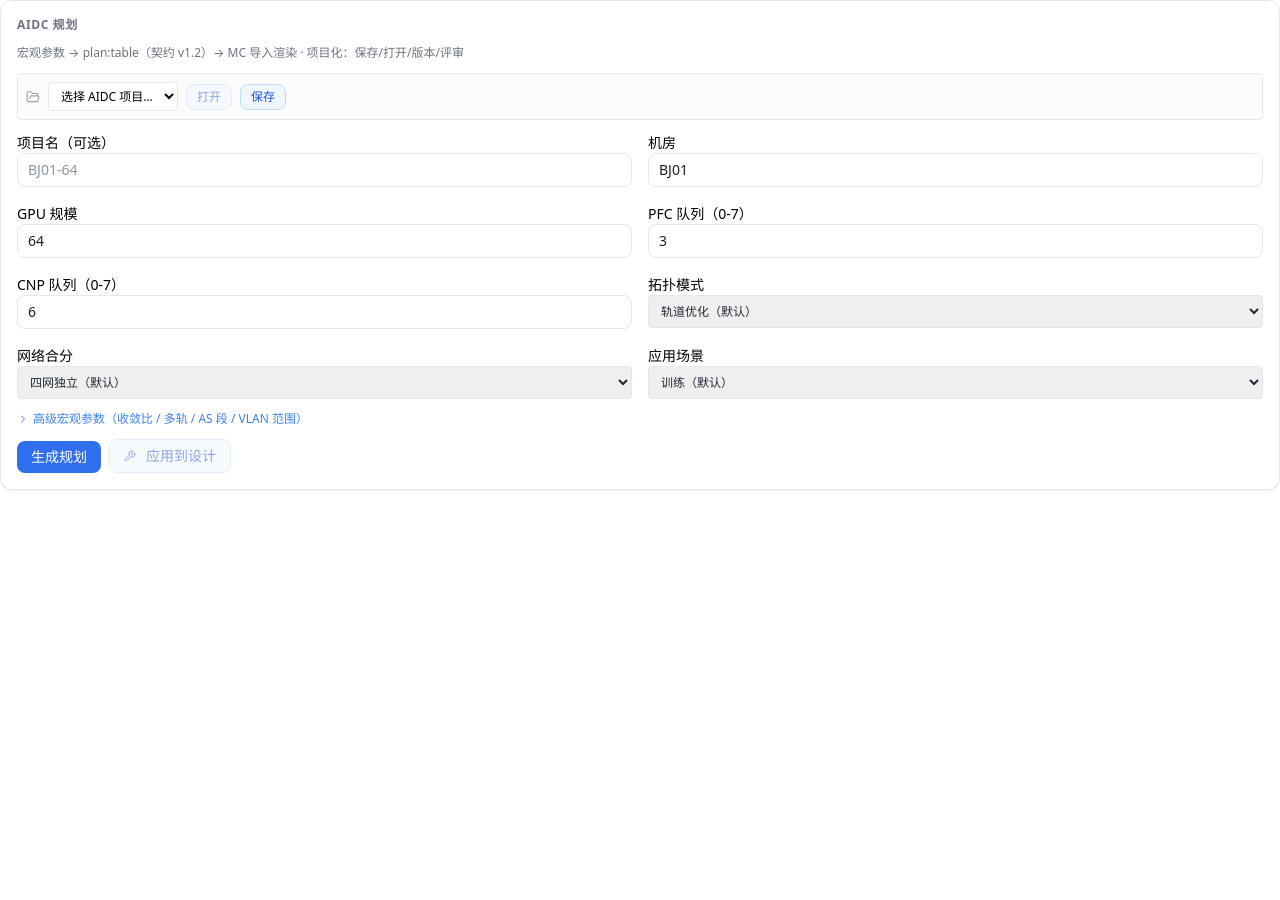
Test: AidcPlannerPanel › 生成规划后展示 v1.1 摘要、桥接标识与计数
Click the button "生成规划". click: click(59, 457)
box: [17,441,101,473]
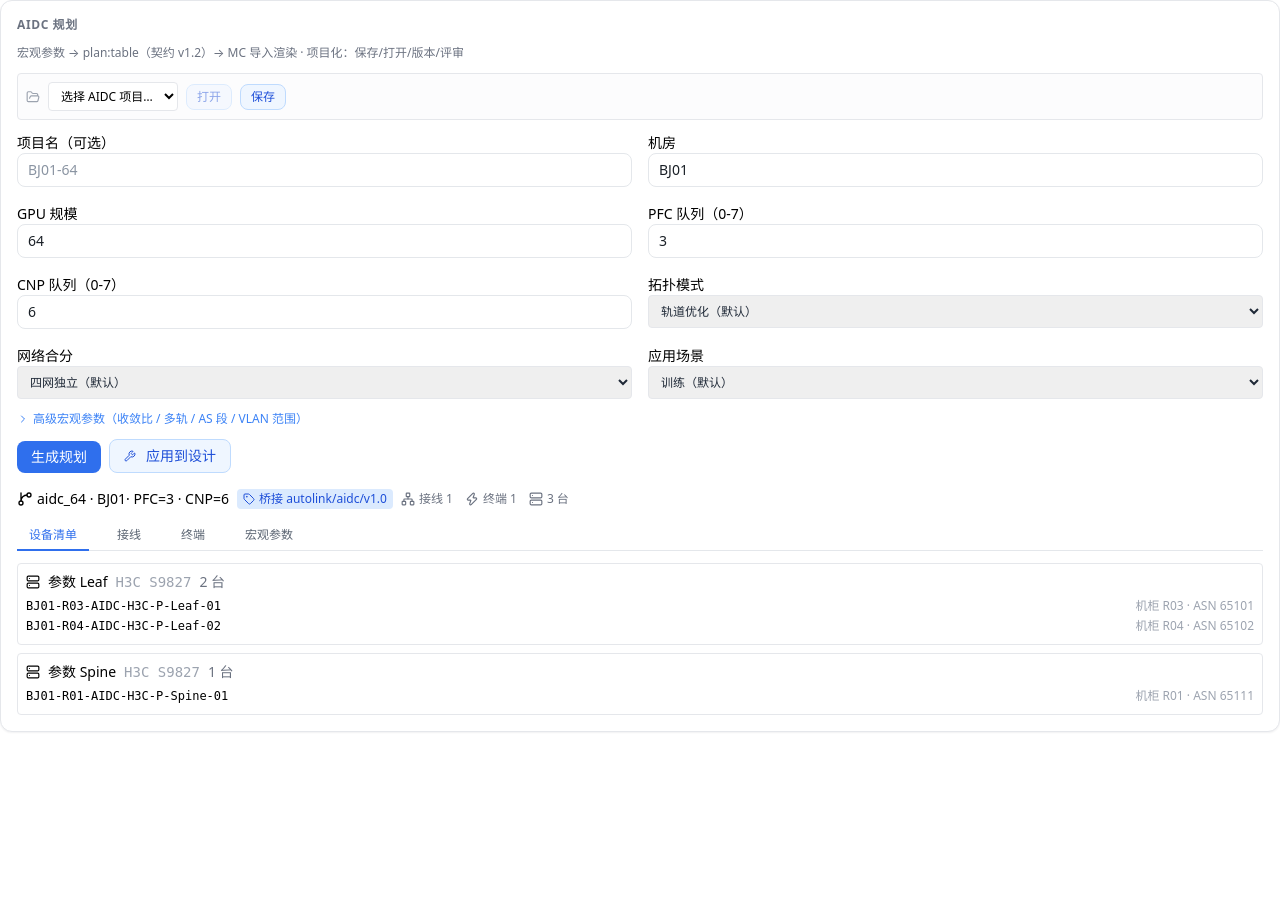
Check: the text "aidc_64 · BJ01· PFC=3 · CNP=6" is shown, box [17,489,229,509]
Check: the text "桥接 autolink/aidc/v1.0" is shown, box [237,489,393,509]
Check: the text "3 台" is shown, box [529,491,569,507]
